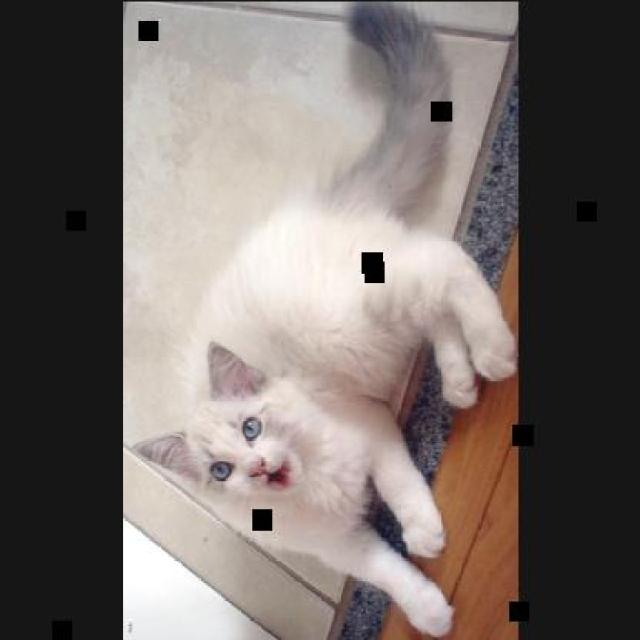unauthorized: (131, 0, 517, 638)
